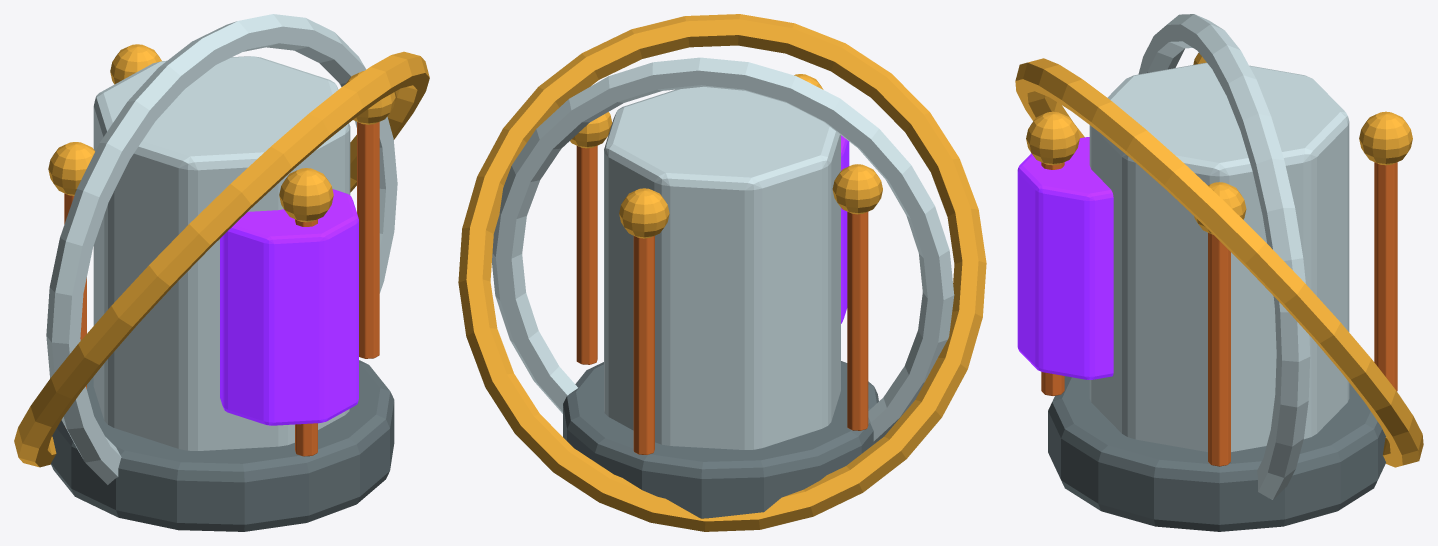
File: resonance_charge.glb
3 views of the same model, side by side, from view 1: azimuth 30°, elevation 25°; view 2: azimuth 150°, elevation 25°; view 3: azimuth 270°, elevation 25° (orthographic). The views are drawn at different scales.
Visible parts, largest first — view 1: resonance_core, violet_core_slit, resonance_base, calibration_ring_0, calibration_ring_1, precision_conductor_0, calibration_lock_3, calibration_lock_2, calibration_lock_1, precision_conductor_3, calibration_lock_0; view 2: resonance_core, calibration_ring_1, calibration_ring_0, resonance_base, precision_conductor_0, precision_conductor_1, precision_conductor_2, calibration_lock_1, calibration_lock_2, violet_core_slit, calibration_lock_0; view 3: resonance_core, resonance_base, violet_core_slit, calibration_ring_1, calibration_ring_0, precision_conductor_0, precision_conductor_1, calibration_lock_1, calibration_lock_3, calibration_lock_0, precision_conductor_3.
Boxes of the visible parts, x1,y1,x2,y2 form: resonance_core: [93, 56, 350, 450]; violet_core_slit: [220, 189, 358, 425]; resonance_base: [51, 360, 394, 531]; calibration_ring_0: [46, 14, 397, 484]; calibration_ring_1: [14, 51, 429, 467]; precision_conductor_0: [357, 122, 379, 358]; calibration_lock_3: [279, 168, 333, 222]; calibration_lock_2: [48, 142, 95, 195]; calibration_lock_1: [110, 44, 161, 84]; precision_conductor_3: [295, 219, 317, 456]; calibration_lock_0: [345, 71, 395, 124]; resonance_core: [604, 87, 840, 449]; calibration_ring_1: [458, 14, 986, 531]; calibration_ring_0: [492, 57, 954, 442]; resonance_base: [563, 361, 878, 518]; precision_conductor_0: [576, 145, 597, 364]; precision_conductor_1: [633, 236, 654, 454]; precision_conductor_2: [847, 212, 868, 430]; calibration_lock_1: [619, 188, 669, 238]; calibration_lock_2: [832, 164, 882, 214]; violet_core_slit: [841, 135, 849, 323]; calibration_lock_0: [570, 112, 612, 148]; resonance_core: [1089, 62, 1349, 451]; resonance_base: [1048, 376, 1385, 531]; violet_core_slit: [1017, 137, 1113, 379]; calibration_ring_1: [1015, 58, 1423, 467]; calibration_ring_0: [1138, 14, 1310, 499]; precision_conductor_0: [1208, 232, 1230, 466]; precision_conductor_1: [1374, 162, 1397, 391]; calibration_lock_1: [1359, 111, 1412, 165]; calibration_lock_3: [1026, 111, 1079, 165]; calibration_lock_0: [1194, 182, 1246, 234]; precision_conductor_3: [1041, 162, 1064, 395].
Size of the model in its own units: 1.05 by 1.03 by 0.8335.
